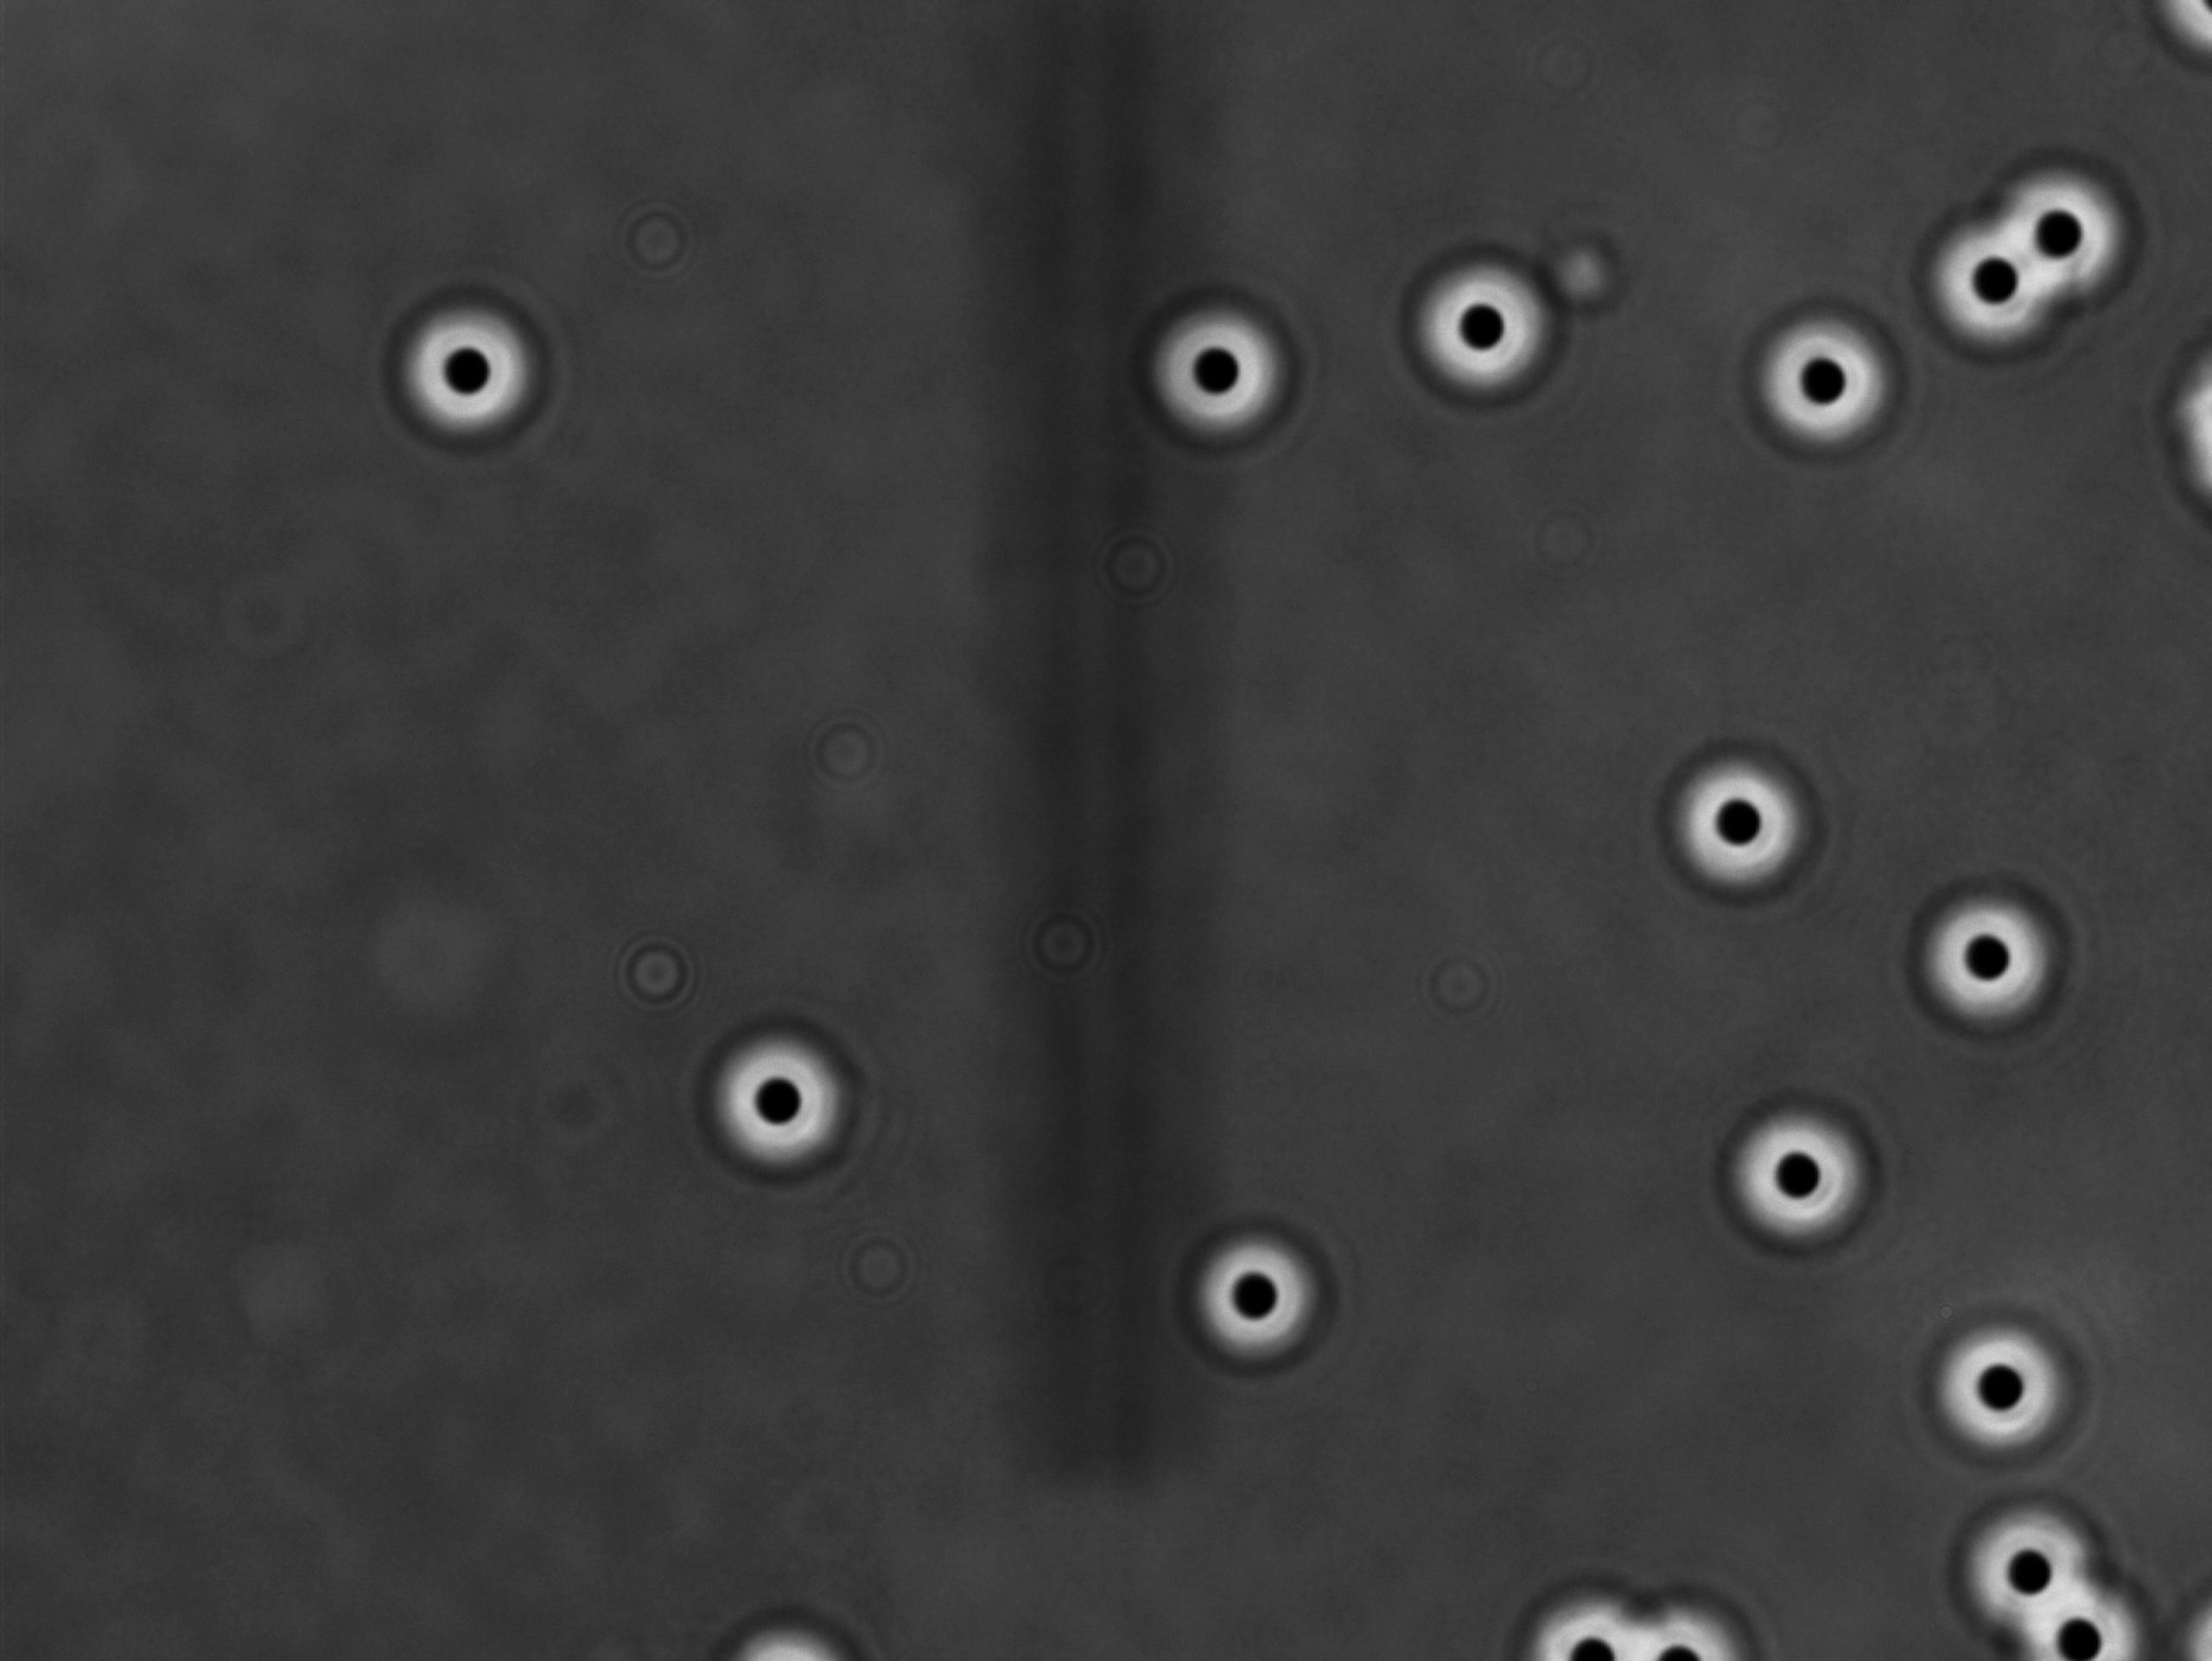depth:-40: (1111, 270, 1319, 466), (1376, 227, 1575, 429), (1155, 1190, 1350, 1392), (1727, 277, 1926, 466), (1697, 1070, 1888, 1260), (1652, 733, 1847, 918), (686, 1000, 872, 1190), (373, 281, 567, 461), (1900, 881, 2090, 1059), (1915, 1296, 2097, 1473), (1983, 148, 2168, 304), (1943, 1488, 2120, 1638), (1900, 206, 2064, 365)
